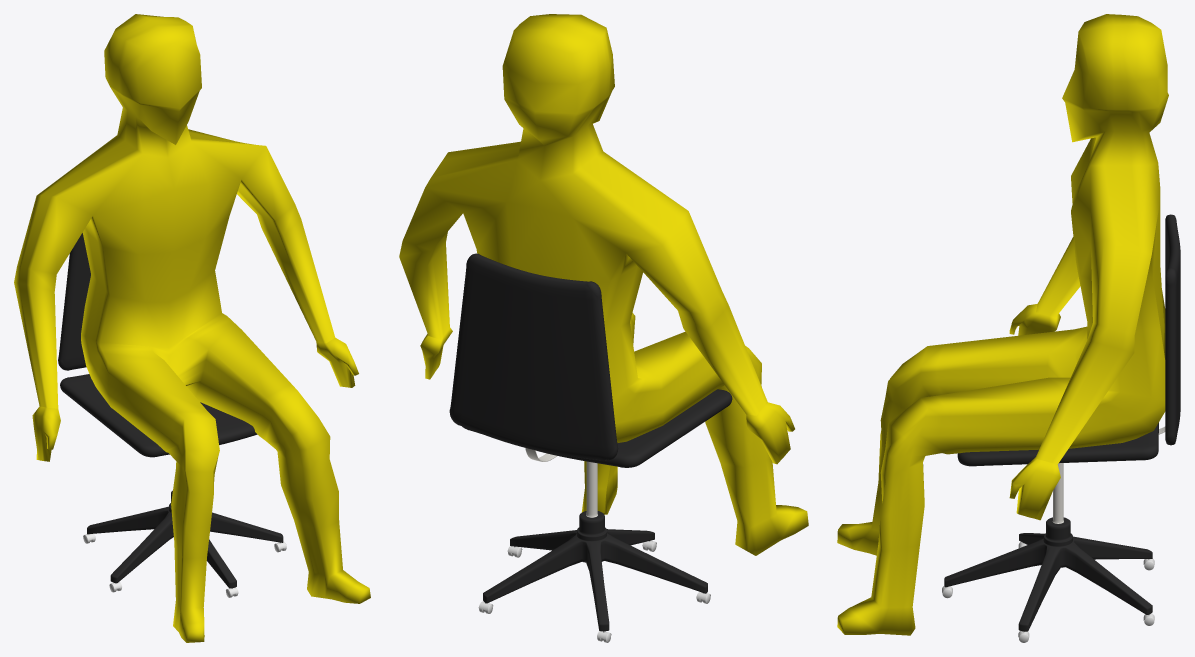
The model's file is OfficeChair.fbx.
3 renders of one model, left to right at view 1: azimuth 30°, elevation 25°; view 2: azimuth 150°, elevation 25°; view 3: azimuth 270°, elevation 25°, orthographic. The views are drawn at different scales.
Visible parts, largest first — view 1: Person, Legs, Seat, backCushion; view 2: Person, backCushion, Legs, Seat; view 3: Person, Legs, backCushion, Seat.
Boxes of the visible parts, box(x1,y1,x2,y2) form: Person: box(14, 14, 370, 642); Legs: box(87, 490, 283, 588); Seat: box(60, 374, 257, 457); backCushion: box(58, 233, 90, 370); Person: box(399, 14, 808, 555); backCushion: box(449, 253, 618, 460); Legs: box(483, 461, 707, 631); Seat: box(462, 389, 732, 467); Person: box(837, 14, 1168, 635); Legs: box(944, 463, 1152, 631); backCushion: box(1165, 214, 1180, 445); Seat: box(957, 422, 1158, 466).
Size of the model in its own units: 477 by 759 by 413.
